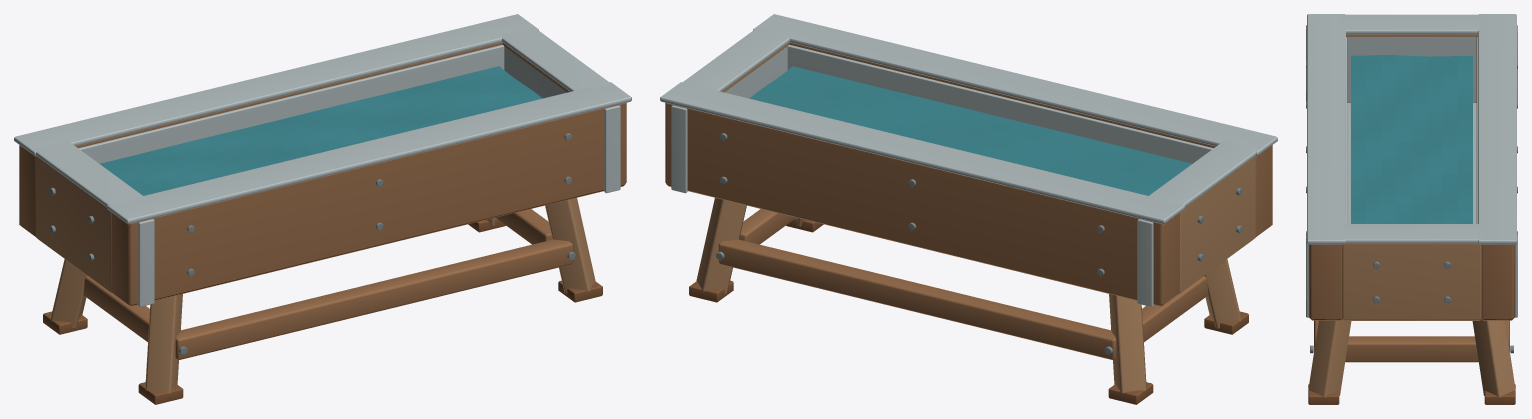
3 views of the same model, side by side, from view 1: azimuth 30°, elevation 25°; view 2: azimuth 150°, elevation 25°; view 3: azimuth 270°, elevation 25° (orthographic). The views are drawn at different scales.
Visible parts, largest first — view 1: Front long timber wall, Animated trough water, Long galvanized rim cap, Long galvanized rim cap.001, Long lower stretcher, Liner back inner face, Left end timber wall, End galvanized rim cap, End galvanized rim cap.001, Splayed timber leg, Back long timber wall, Splayed timber leg.002 (+7 smaller); view 2: Back long timber wall, Animated trough water, Long galvanized rim cap.001, Long galvanized rim cap, Long lower stretcher.001, Liner front inner face, Left end timber wall, End galvanized rim cap, End galvanized rim cap.001, Splayed timber leg.001, Front long timber wall, Splayed timber leg.003 (+7 smaller); view 3: Animated trough water, Right end timber wall, Long galvanized rim cap, Long galvanized rim cap.001, End lower stretcher.001, End galvanized rim cap, Liner left inner face, End galvanized rim cap.001, Back long timber wall, Front long timber wall, Splayed timber leg.002, Splayed timber leg.003 (+8 smaller).
Boxes of the visible parts, box(x1,y1,x2,y2) form: Front long timber wall: box(112, 103, 626, 306); Animated trough water: box(100, 66, 542, 195); Long galvanized rim cap: box(107, 82, 631, 224); Long galvanized rim cap.001: box(14, 14, 538, 156); Long lower stretcher: box(175, 239, 573, 359); Liner back inner face: box(78, 44, 504, 163); Left end timber wall: box(36, 156, 112, 293); End galvanized rim cap: box(34, 140, 145, 207); End galvanized rim cap.001: box(500, 27, 611, 91); Splayed timber leg: box(145, 294, 182, 393); Back long timber wall: box(19, 42, 502, 236); Splayed timber leg.002: box(545, 198, 595, 293); Back long timber wall: box(665, 103, 1179, 306); Animated trough water: box(749, 66, 1192, 195); Long galvanized rim cap.001: box(660, 82, 1184, 224); Long galvanized rim cap: box(753, 14, 1277, 156); Long lower stretcher.001: box(718, 239, 1116, 359); Liner front inner face: box(787, 44, 1213, 163); Left end timber wall: box(1179, 156, 1255, 293); End galvanized rim cap: box(1146, 140, 1257, 207); End galvanized rim cap.001: box(680, 27, 791, 91); Splayed timber leg.001: box(1109, 294, 1146, 393); Front long timber wall: box(789, 42, 1272, 236); Splayed timber leg.003: box(696, 198, 746, 293); Animated trough water: box(1351, 55, 1472, 223); Right end timber wall: box(1342, 244, 1481, 320); Long galvanized rim cap: box(1307, 14, 1345, 244); Long galvanized rim cap.001: box(1478, 14, 1516, 244); End lower stretcher.001: box(1345, 336, 1478, 362); End galvanized rim cap: box(1339, 14, 1484, 34); Liner left inner face: box(1347, 37, 1476, 102); End galvanized rim cap.001: box(1339, 224, 1484, 243); Back long timber wall: box(1481, 244, 1515, 320); Front long timber wall: box(1308, 244, 1342, 320); Splayed timber leg.002: box(1308, 319, 1351, 397); Splayed timber leg.003: box(1472, 319, 1515, 397).
Size of the model in its own units: 1.82 by 0.6655 by 0.718.
